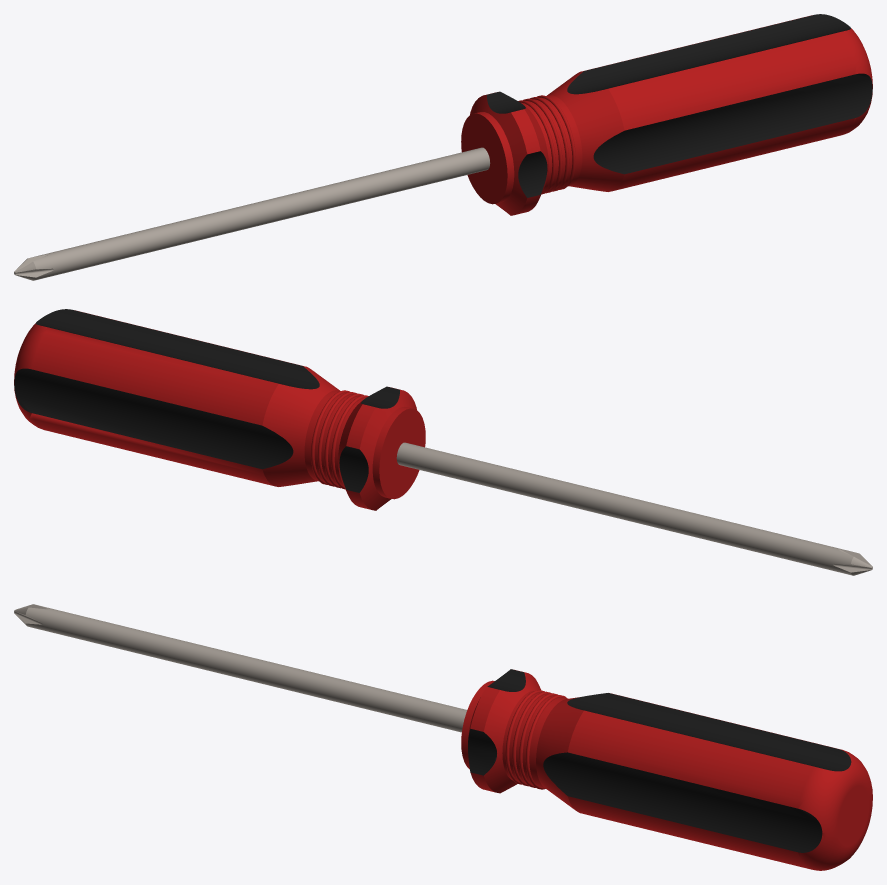
3 renders of one model, top to bottom at view 1: azimuth 30°, elevation 25°; view 2: azimuth 150°, elevation 25°; view 3: azimuth 330°, elevation 25°, orthographic.
Visible parts, largest first — view 1: Tornavida_001.003, Tornavida_001-1.003, Tornavida_002.003; view 2: Tornavida_001.003, Tornavida_001-1.003, Tornavida_002.003; view 3: Tornavida_001.003, Tornavida_001-1.003, Tornavida_002.003.
Part boxes in pixels (x1,y1,x2,y2): Tornavida_001.003: (461, 15, 872, 215); Tornavida_001-1.003: (486, 14, 872, 197); Tornavida_002.003: (14, 147, 490, 280); Tornavida_001.003: (14, 310, 425, 510); Tornavida_001-1.003: (14, 309, 399, 492); Tornavida_002.003: (396, 442, 872, 575); Tornavida_001.003: (461, 669, 872, 870); Tornavida_001-1.003: (468, 669, 851, 852); Tornavida_002.003: (14, 604, 467, 732).
Bounding box in the file's own units: 1.06 × 0.1253 × 0.1253.
